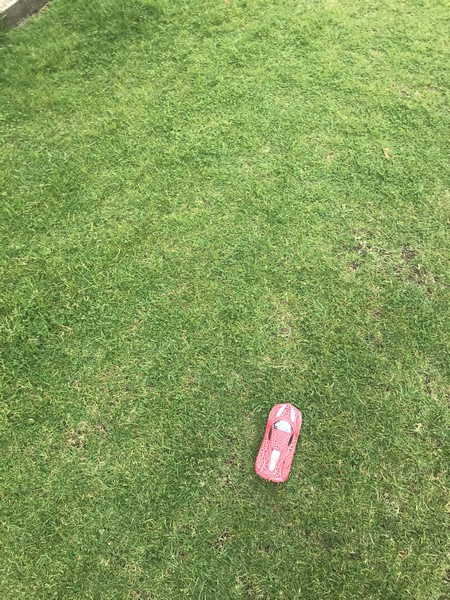RC: (252, 400, 305, 484)
